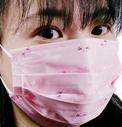with_mask: (2, 2, 122, 127)
